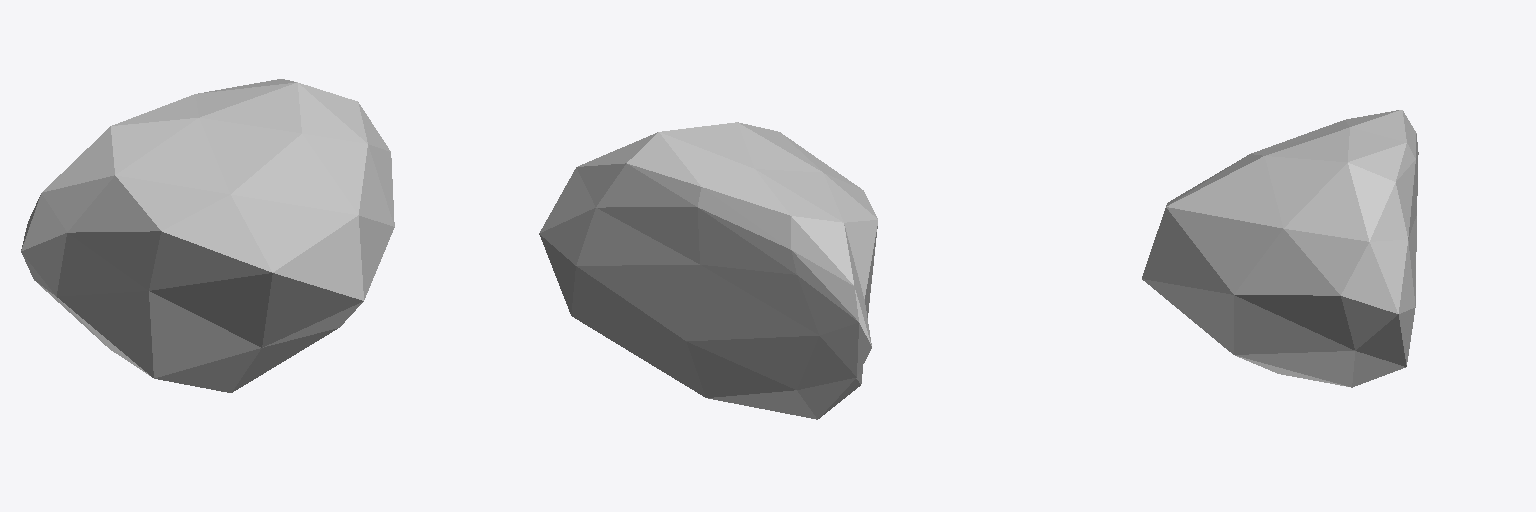
Rendered from simpleRock.obj.
The picture shows the model from 3 angles: view 1: azimuth 30°, elevation 25°; view 2: azimuth 150°, elevation 25°; view 3: azimuth 270°, elevation 25°; orthographic projection.
Visible parts, largest first — view 1: Norm_Rock_1_Icosphere.003; view 2: Norm_Rock_1_Icosphere.003; view 3: Norm_Rock_1_Icosphere.003.
Boxes of the visible parts, box(x1,y1,x2,y2) form: Norm_Rock_1_Icosphere.003: box(21, 79, 394, 392); Norm_Rock_1_Icosphere.003: box(539, 122, 877, 419); Norm_Rock_1_Icosphere.003: box(1142, 110, 1418, 387).
Size of the model in its own units: 1.57 by 1.16 by 1.11.